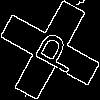P: (25, 25, 81, 77)
